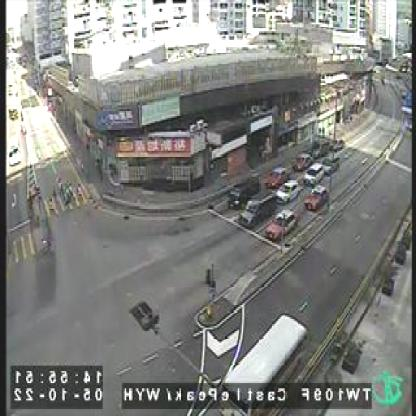Bus: (221, 314, 308, 414)
Car: (238, 189, 277, 227), (228, 177, 262, 206), (267, 208, 299, 236), (305, 185, 329, 210), (280, 177, 300, 203), (269, 166, 290, 189), (307, 163, 326, 182), (325, 152, 341, 174), (294, 151, 313, 168)
